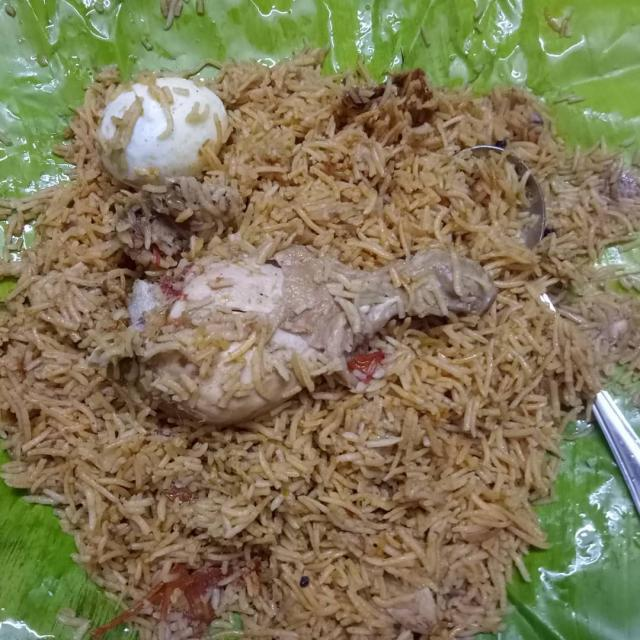biryani: (49, 32, 640, 611)
